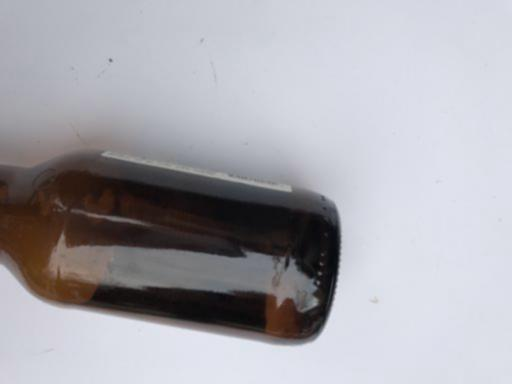alcohol: (1, 157, 342, 348)
glass: (1, 157, 342, 348)
sodocalcique: (1, 157, 342, 348)
